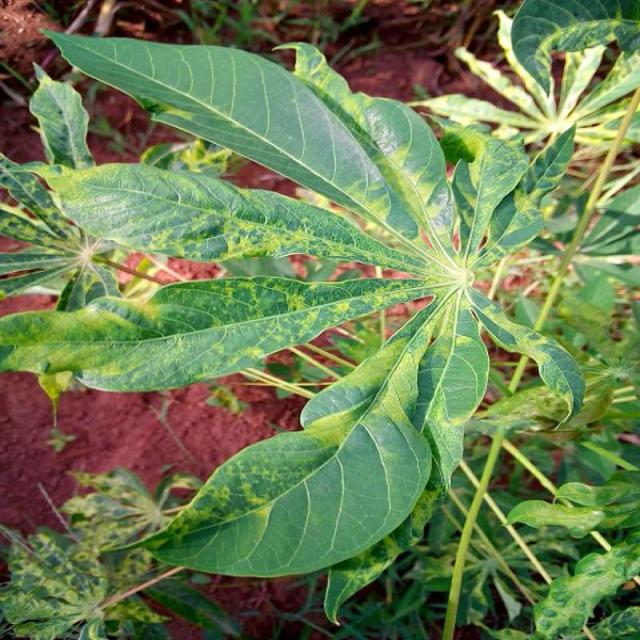cassava leaf: (2, 26, 588, 618), (37, 26, 434, 245)
